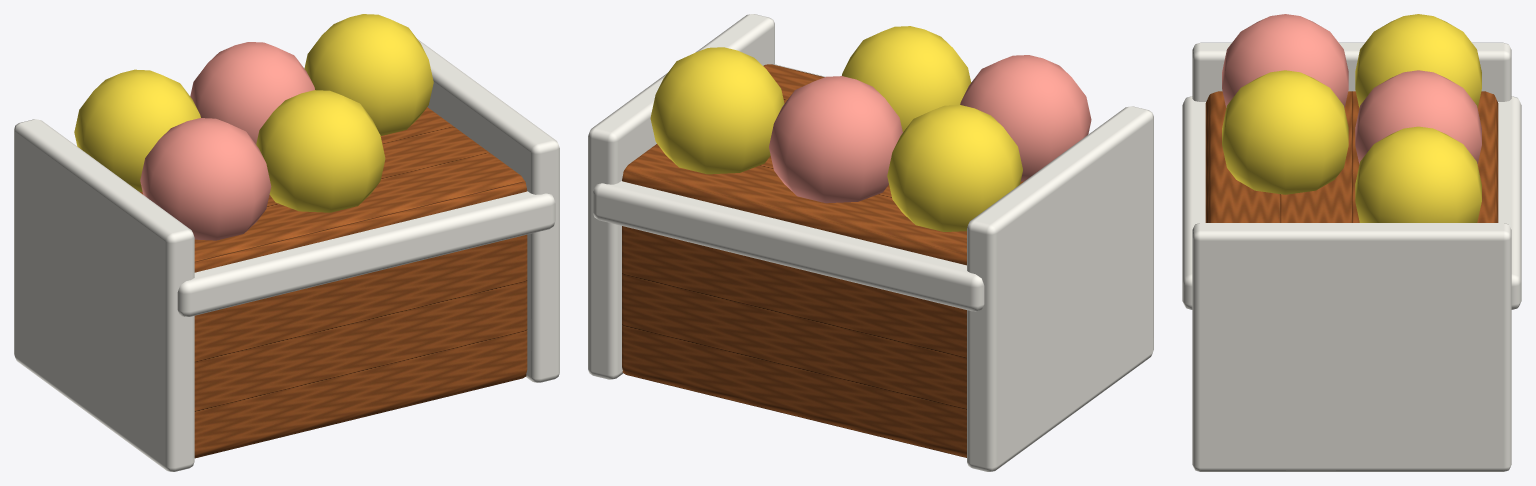
File: hero-shooter-harbour-payload-market-fruit-crate-5391f5b4__27708.glb
The picture shows the model from 3 angles, left to right: view 1: azimuth 30°, elevation 25°; view 2: azimuth 150°, elevation 25°; view 3: azimuth 270°, elevation 25°; orthographic projection. The views are drawn at different scales.
Visible parts, largest first — view 1: market-fruit-crate; view 2: market-fruit-crate; view 3: market-fruit-crate.
Part boxes in pixels (bbox=[...]): market-fruit-crate: bbox=[14, 14, 559, 471]; market-fruit-crate: bbox=[588, 14, 1153, 471]; market-fruit-crate: bbox=[1182, 14, 1521, 471].
Size of the model in its own units: 0.69 by 0.5 by 0.51.
Materials: 4 (1 with a texture image).
